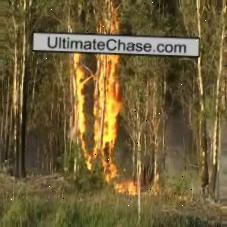fire: (68, 56, 121, 155), (105, 162, 138, 196)
